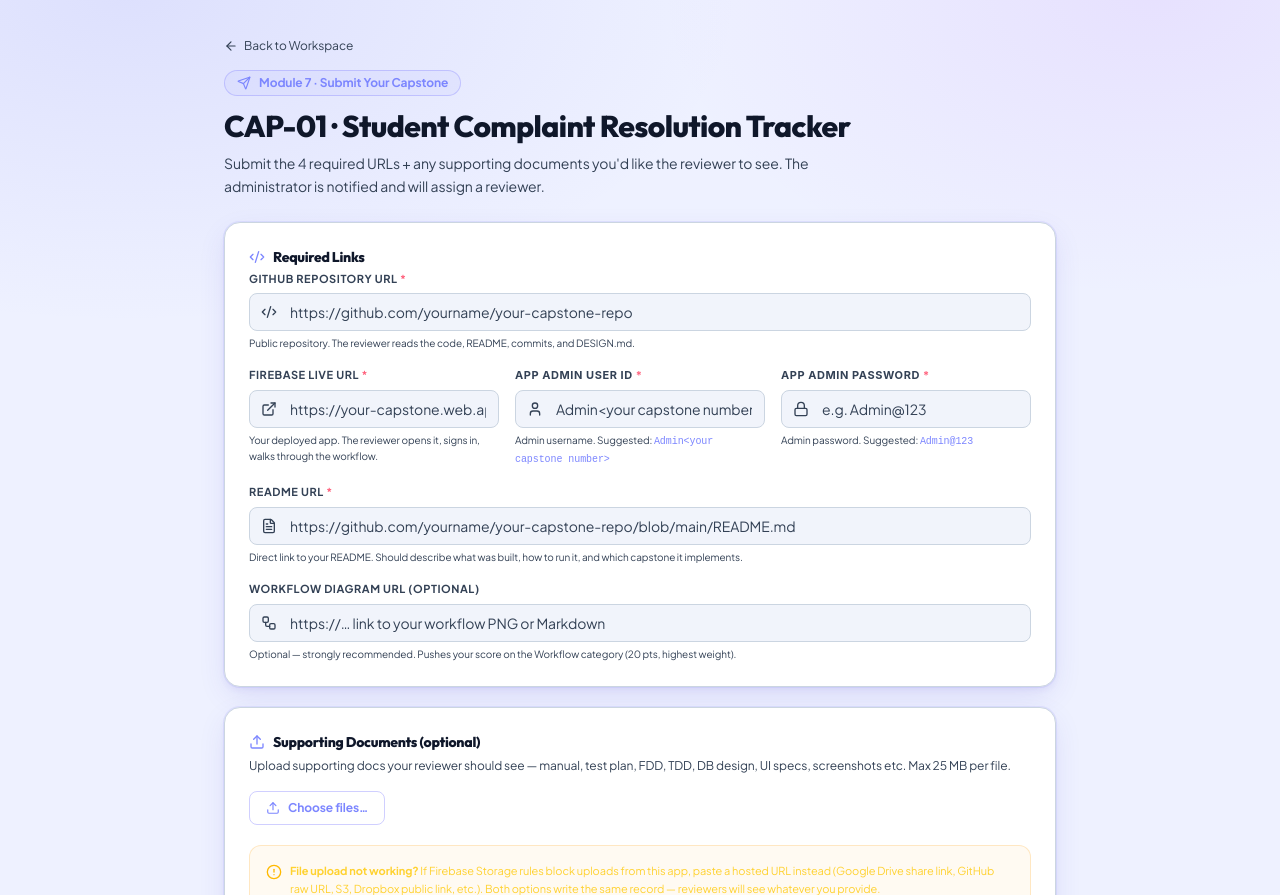
Test: CapstoneSubmit › rejects a non-github.com URL with a validation error and does not submit
The width and height of the screenshot is (1280, 895).
Type "https://gitlab.com/me/repo" into the field with placeholder "https://github.com/yourname/your-capstone-repo" at (640, 312), box x1=249 y1=293 x2=1031 y2=331
(page scrolled)
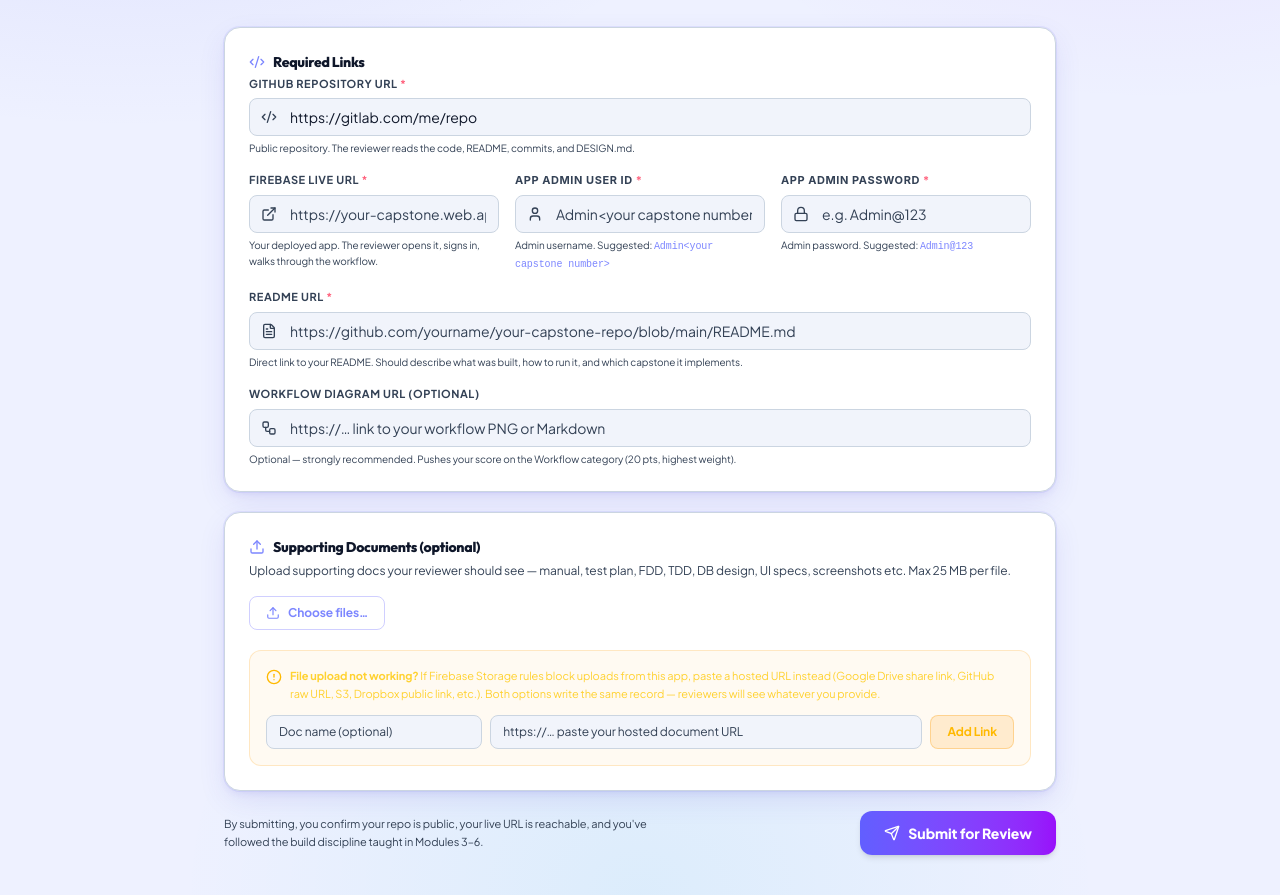
Click the button "Submit for Review" at (958, 833), box x1=860 y1=811 x2=1056 y2=855
(page scrolled)
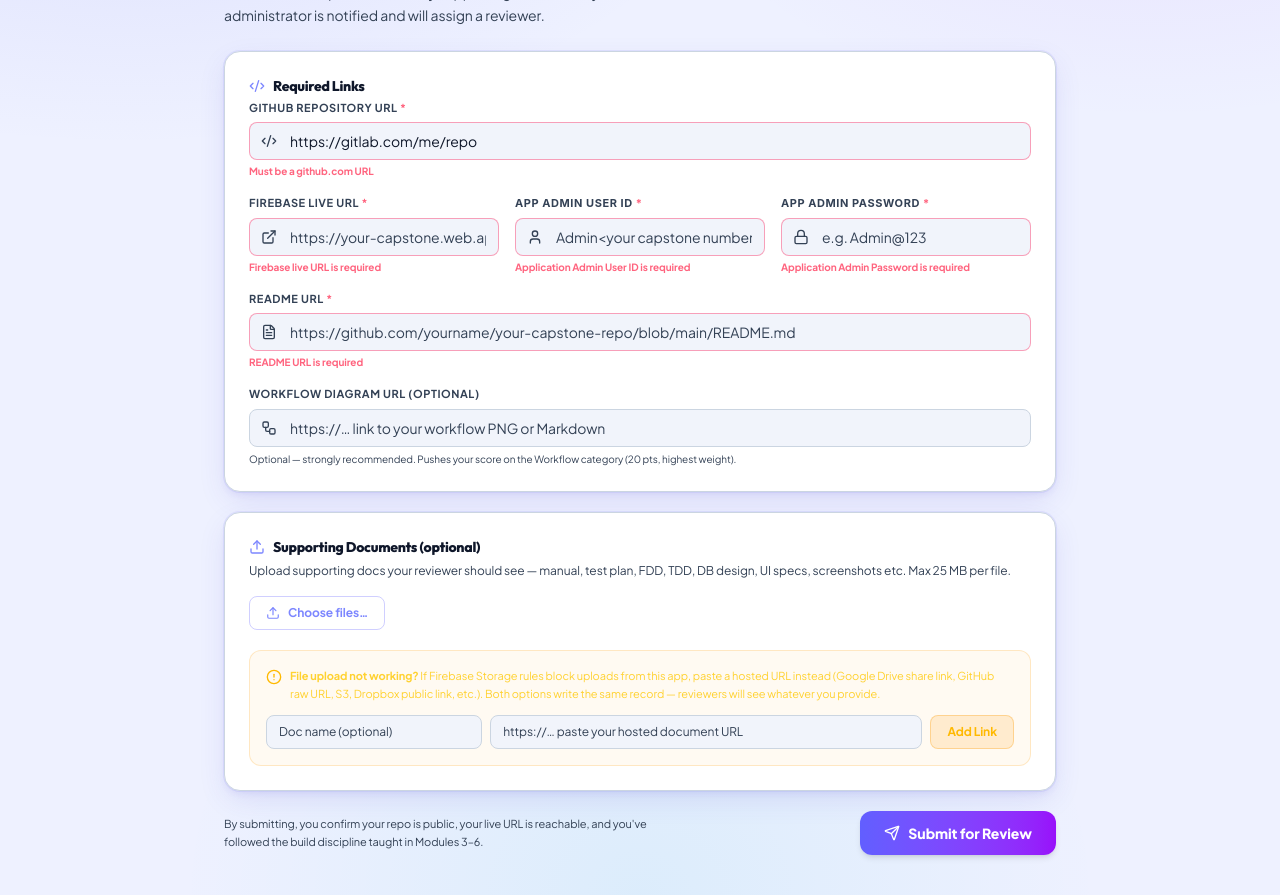
Expected: the text "Must be a github.com URL" is shown, x1=249 y1=165 x2=374 y2=177
